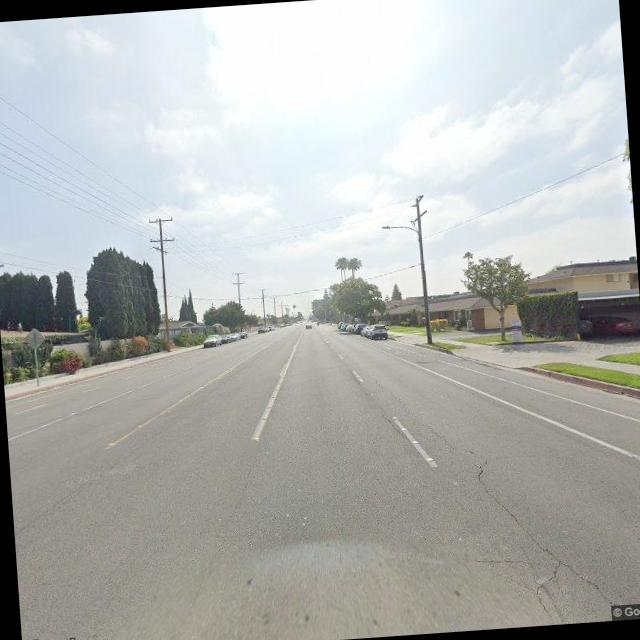crack: (471, 448, 610, 618), (472, 548, 528, 566)
